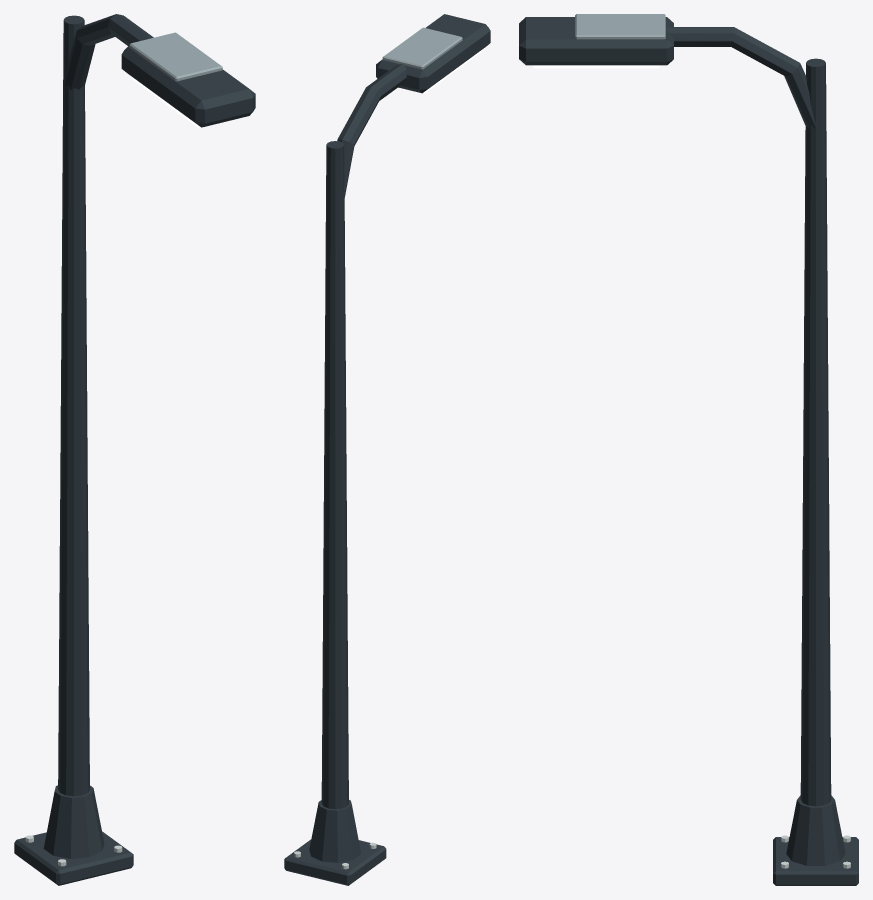
Rendered from Streetlight_Modern.fbx.
The picture shows the model from 3 angles, left to right: view 1: azimuth 30°, elevation 25°; view 2: azimuth 150°, elevation 25°; view 3: azimuth 270°, elevation 25°; orthographic projection. The views are drawn at different scales.
Parts seen in each view (by area): view 1: Streetlight_Modern; view 2: Streetlight_Modern; view 3: Streetlight_Modern.
Part boxes in pixels (left/top/right/bottom): Streetlight_Modern: left=14, top=14, right=255, bottom=885; Streetlight_Modern: left=284, top=14, right=490, bottom=885; Streetlight_Modern: left=519, top=14, right=858, bottom=885.
Bounding box in the file's own units: 36 × 391 × 142.
